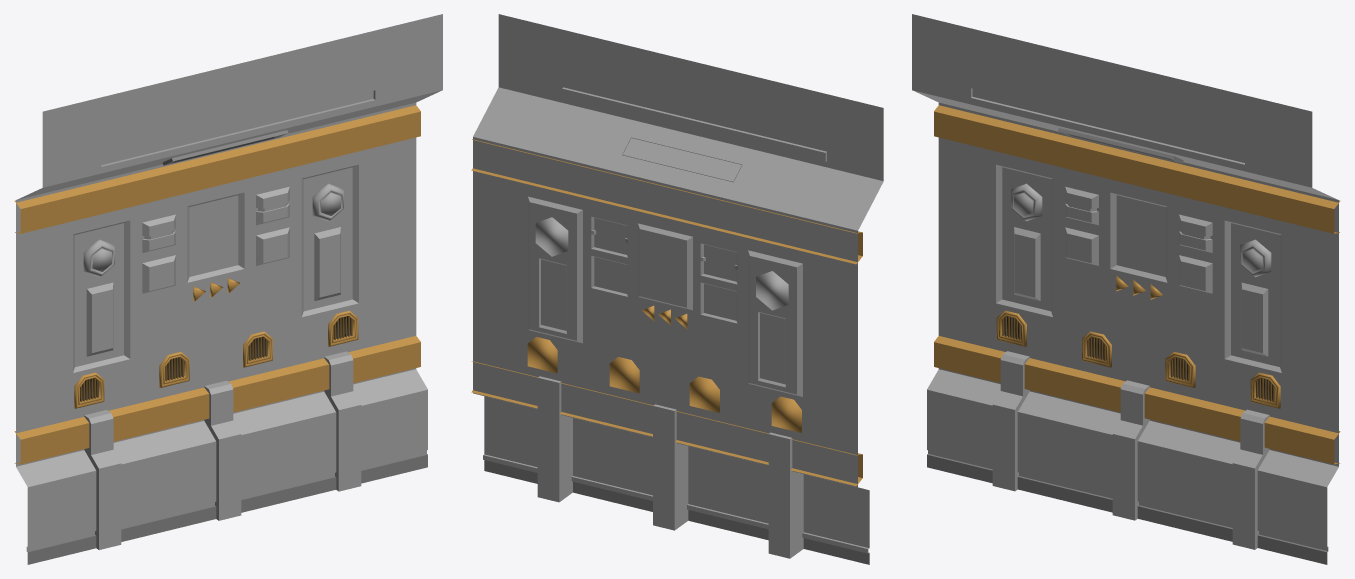
File: wall_3.038_lev3.glb
3 views of the same model, side by side, from view 1: azimuth 30°, elevation 25°; view 2: azimuth 150°, elevation 25°; view 3: azimuth 330°, elevation 25° (orthographic). The views are drawn at different scales.
Parts seen in each view (by area): view 1: wall_3.038_lev3; view 2: wall_3.038_lev3; view 3: wall_3.038_lev3.
Boxes of the visible parts, bbox=[...] form: wall_3.038_lev3: bbox=[14, 14, 442, 564]; wall_3.038_lev3: bbox=[471, 14, 883, 564]; wall_3.038_lev3: bbox=[912, 14, 1340, 564].
Size of the model in its own units: 4 by 4.43 by 0.523.
